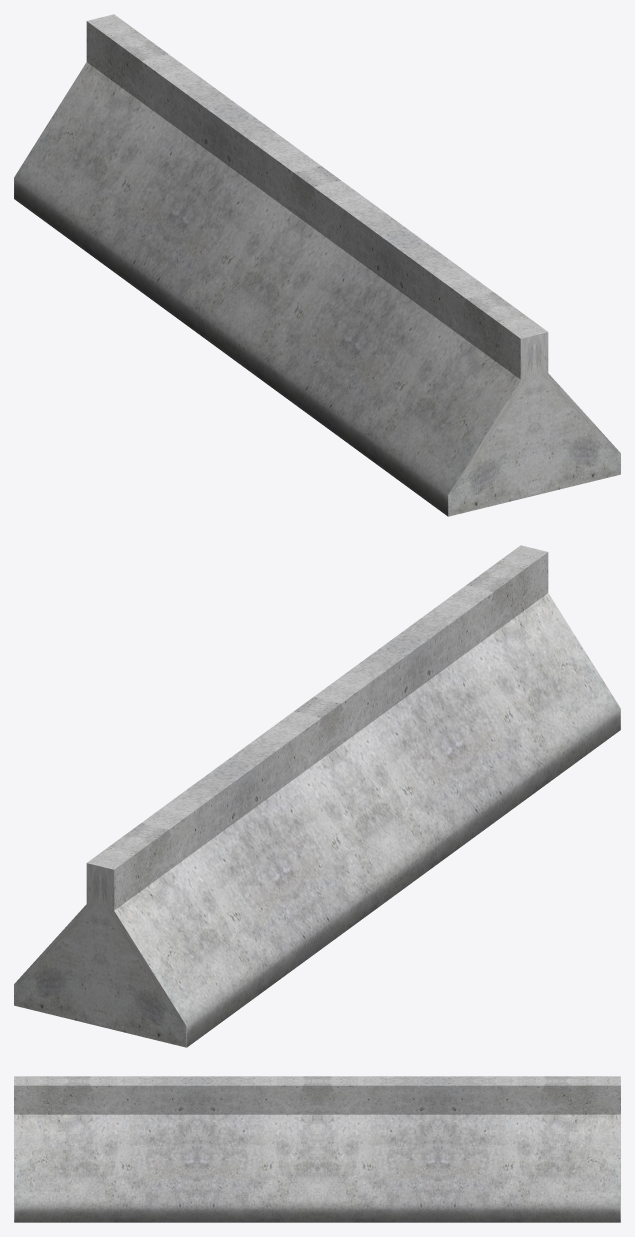
Rendered from Concrete Barrier.fbx.
The picture shows the model from 3 angles, top to bottom: view 1: azimuth 30°, elevation 25°; view 2: azimuth 150°, elevation 25°; view 3: azimuth 270°, elevation 25°; orthographic projection. The views are drawn at different scales.
Visible parts, largest first — view 1: Concrete_Barrier; view 2: Concrete_Barrier; view 3: Concrete_Barrier.
Part boxes in pixels (<box>): Concrete_Barrier: <box>14,14,620,516</box>; Concrete_Barrier: <box>14,545,620,1047</box>; Concrete_Barrier: <box>14,1076,620,1222</box>.
Size of the model in its own units: 10.76 by 9.54 by 46.84.
